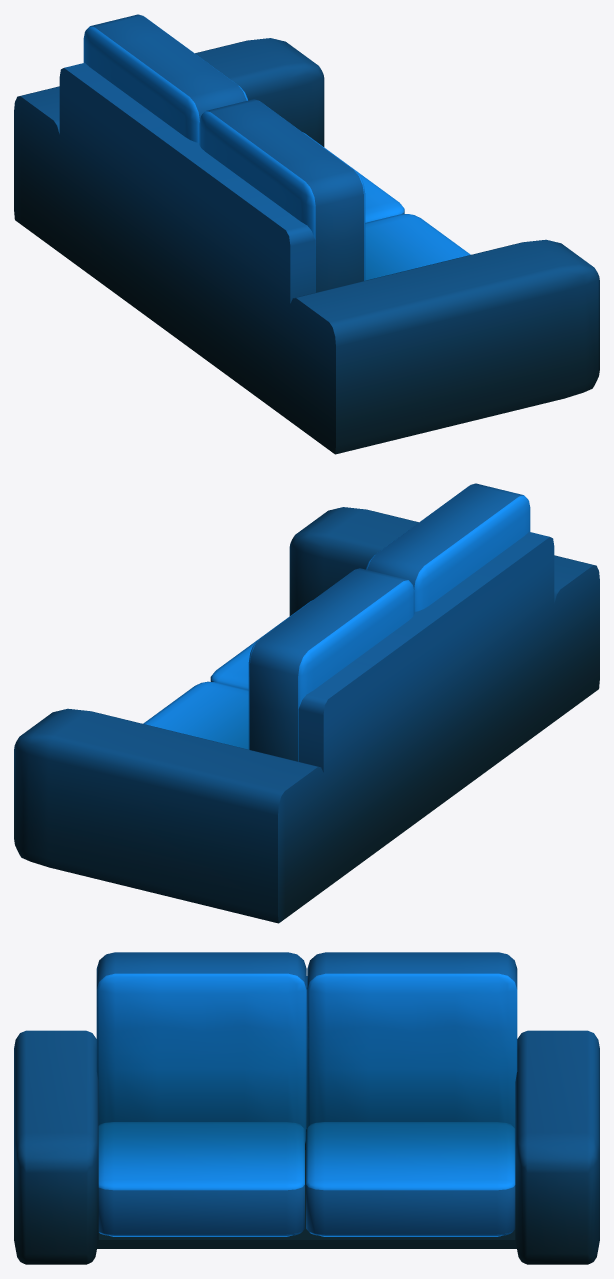
Rendered from Couch.fbx.
3 renders of one model, top to bottom at view 1: azimuth 30°, elevation 25°; view 2: azimuth 150°, elevation 25°; view 3: azimuth 270°, elevation 25°, orthographic. The views are drawn at different scales.
Visible parts, largest first — view 1: Cube.001; view 2: Cube.001; view 3: Cube.001.
Boxes of the visible parts, bbox=[...] form: Cube.001: bbox=[14, 14, 599, 454]; Cube.001: bbox=[14, 483, 599, 923]; Cube.001: bbox=[14, 952, 599, 1264].
Bounding box in the file's own units: 127 × 159 × 328.
